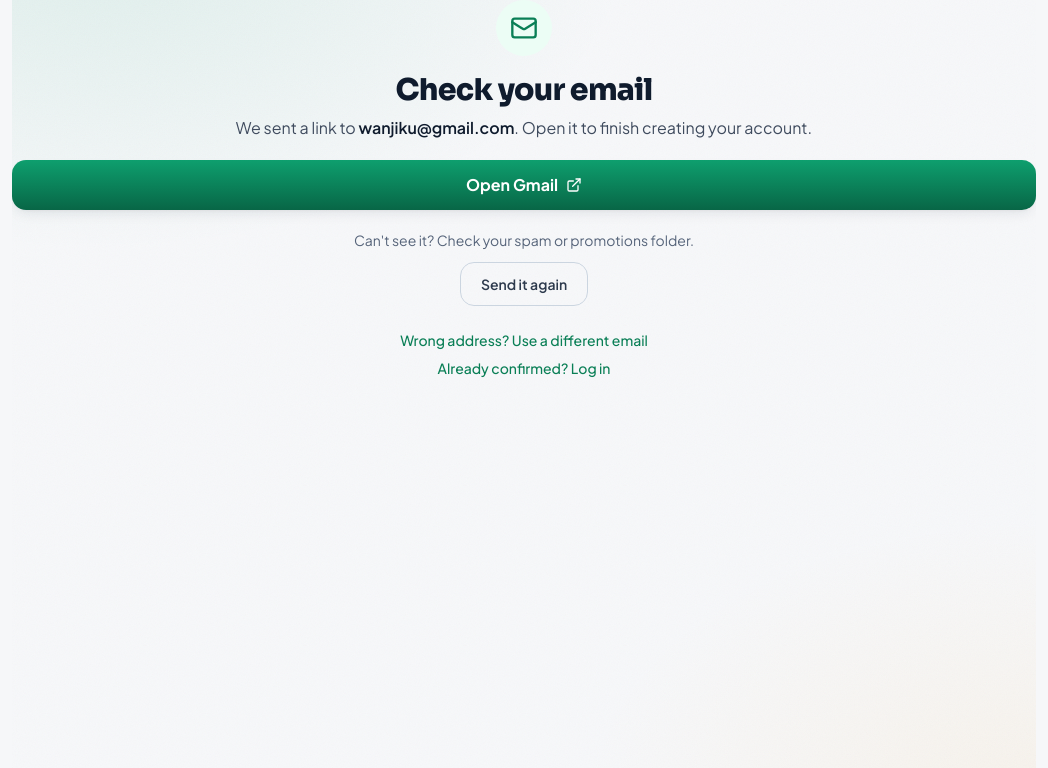
CheckEmailPanel › shows a readable message if it could not be sent, and lets them try again
Click the button "Send it again": point(524, 284) [460,262,588,306]
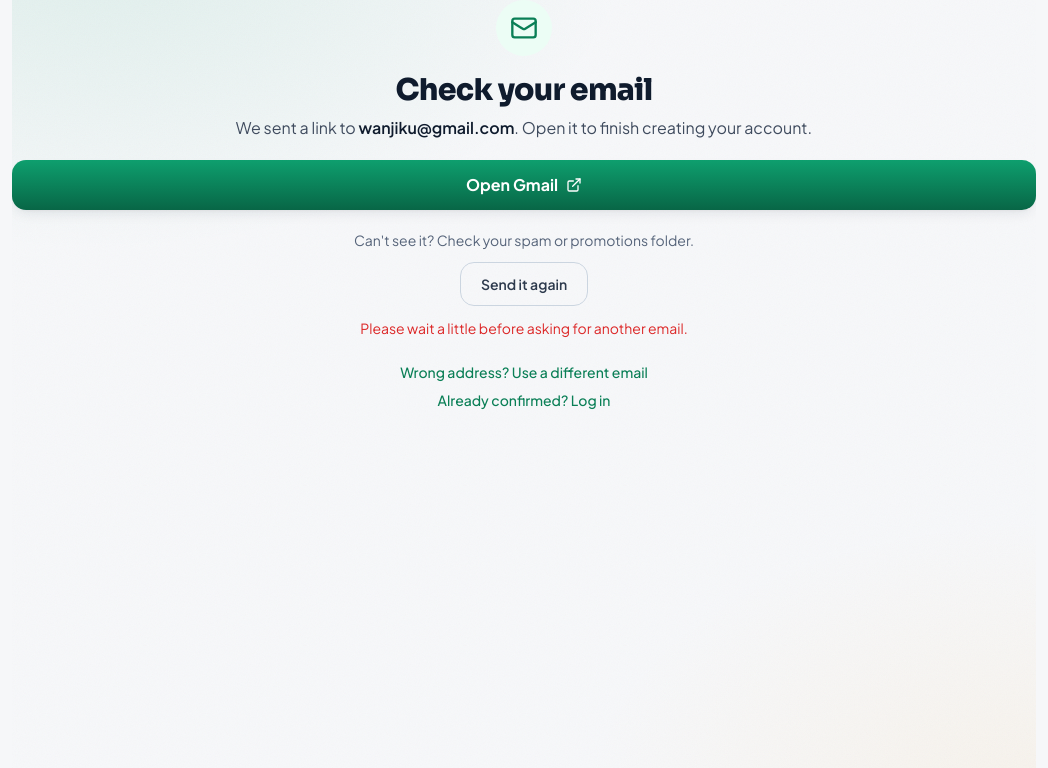
Check: the message shows "Please wait a little", box [360,319,688,337]
